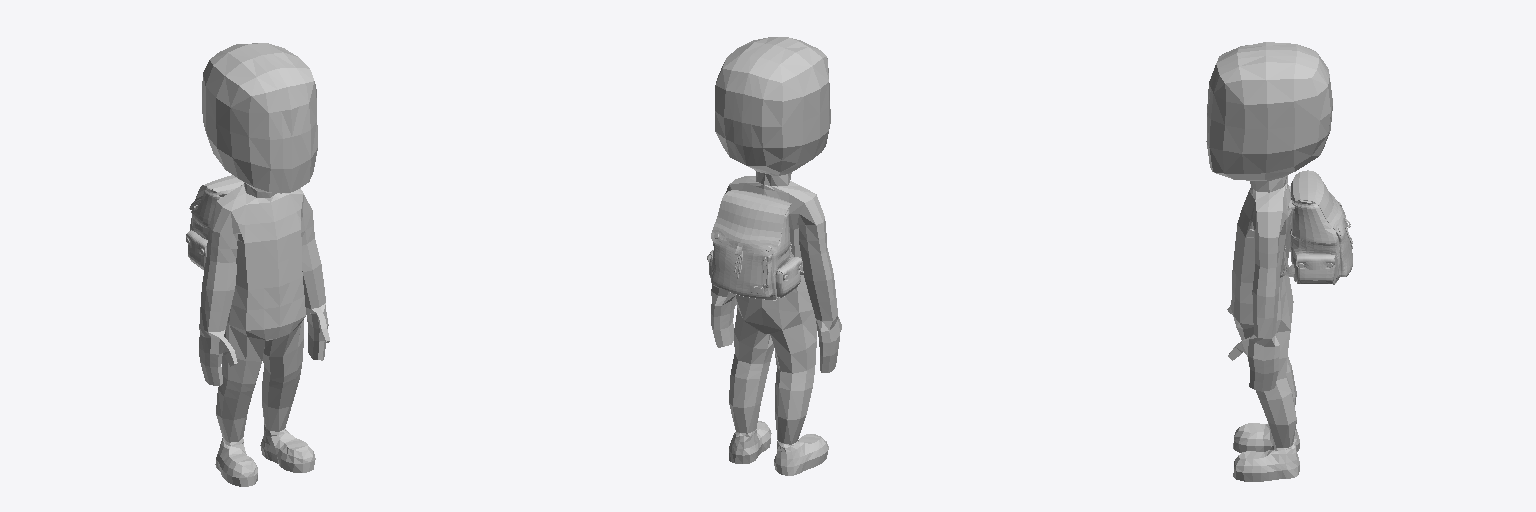
Rendered from player.obj.
3 views of the same model, side by side, from view 1: azimuth 30°, elevation 25°; view 2: azimuth 150°, elevation 25°; view 3: azimuth 270°, elevation 25° (orthographic).
Visible parts, largest first — view 1: characterMedium, Cube; view 2: characterMedium, Cube; view 3: characterMedium, Cube.
Boxes of the visible parts, box(x1,y1,x2,y2) form: characterMedium: box(199, 43, 329, 486); Cube: box(186, 175, 243, 269); characterMedium: box(711, 37, 841, 475); Cube: box(707, 190, 803, 300); characterMedium: box(1206, 42, 1332, 481); Cube: box(1280, 170, 1352, 284).
Size of the model in its own units: 1.16 by 3.76 by 1.22.